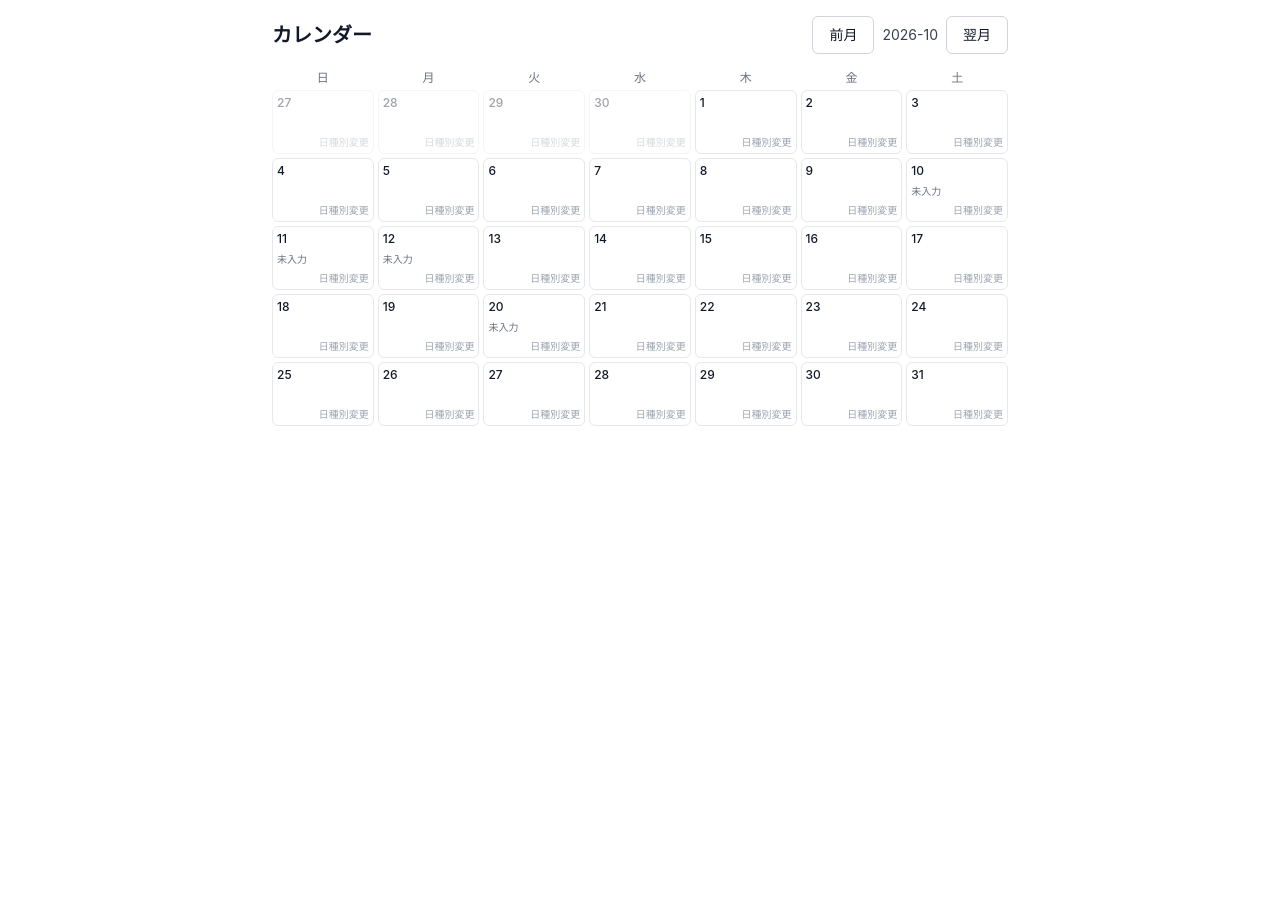
Test: CalendarPage の日付選択 › only offers editing the day type for a future day
The image size is (1280, 900).
Check: the heading "カレンダー" is shown, box [272,21,372,49]
Click the button "20" at (534,307), box [488,299,580,315]
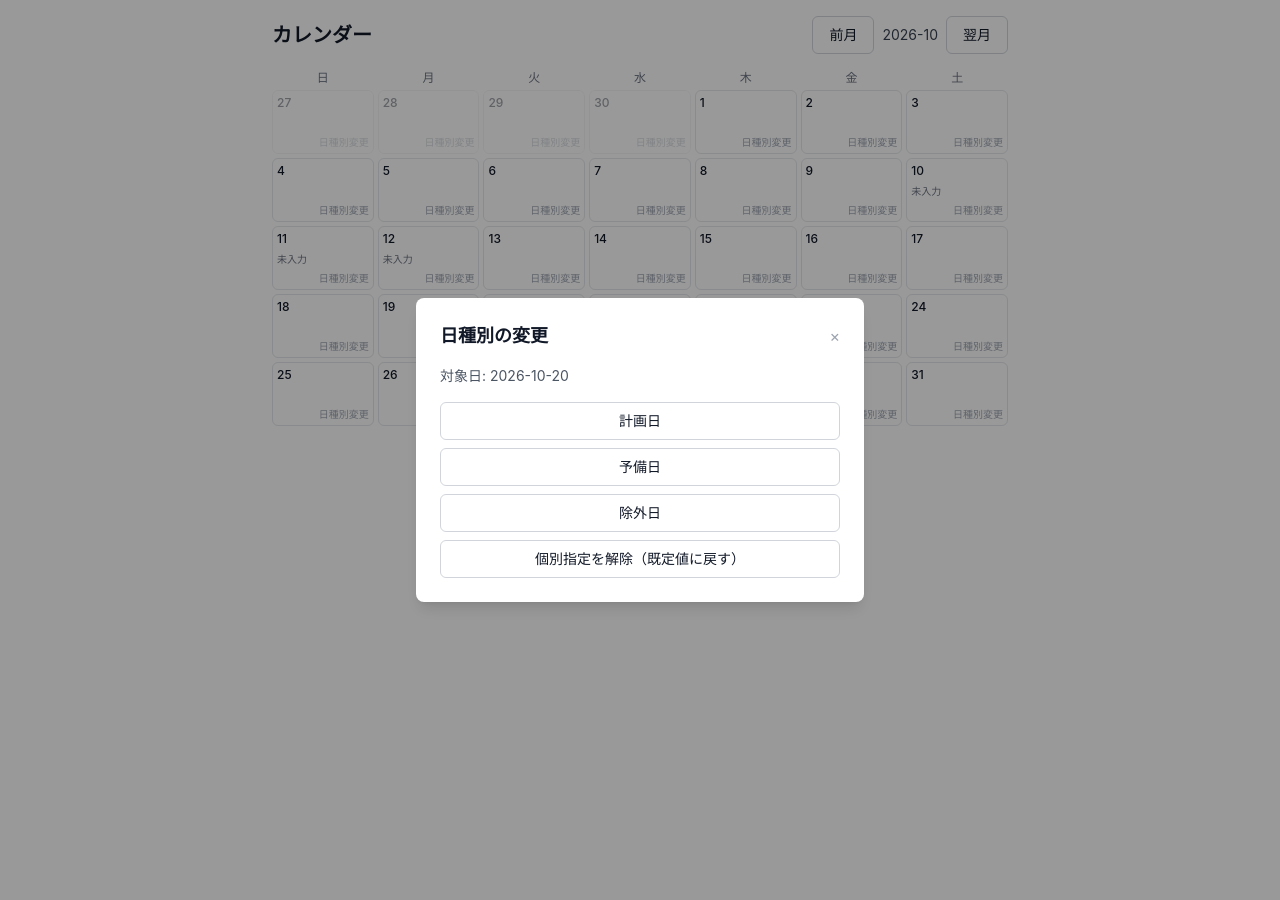
Check: the heading "日種別の変更" is shown, box [440,322,548,350]
